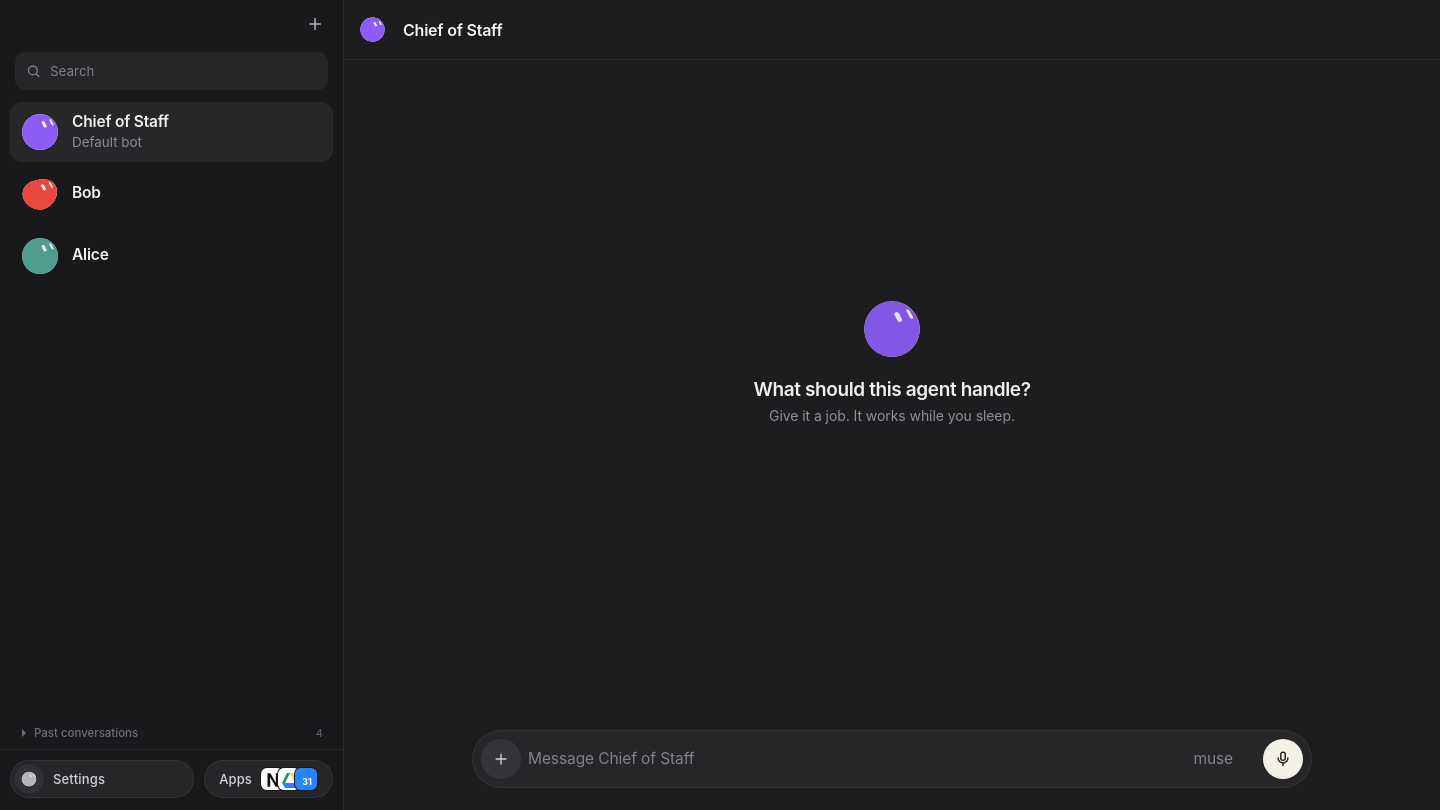
Test: the app › reads the conversation back from the server
Click the button "Bob": [40, 194] box top-left (10, 164), bottom-right (333, 224)
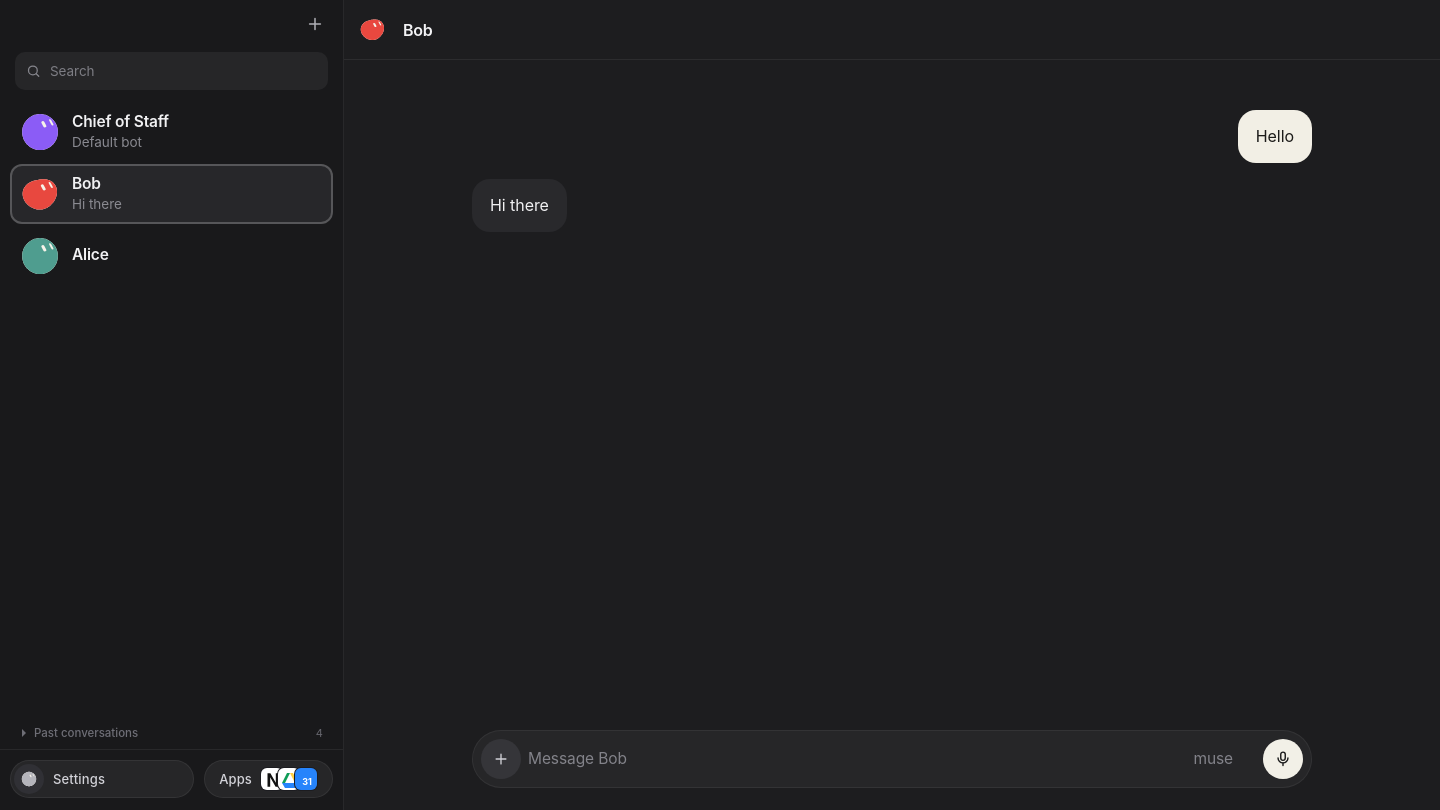
Expected: the text "Hello" is shown, top-left (1238, 110), bottom-right (1312, 163)
Expected: the 1st text "Hi there" is shown, top-left (72, 196), bottom-right (122, 212)
